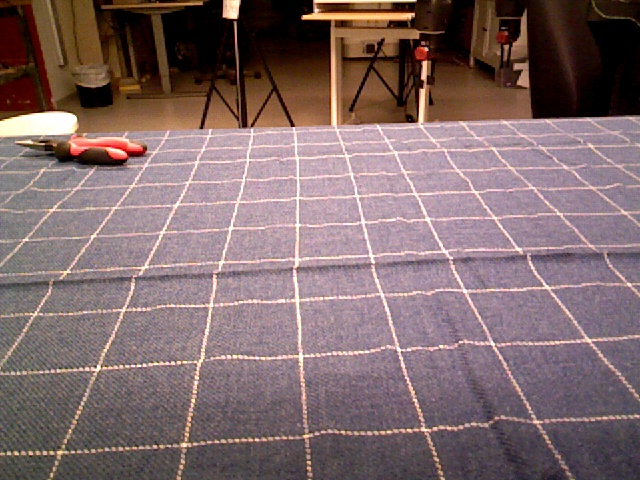plier1: (13, 137, 148, 167)
